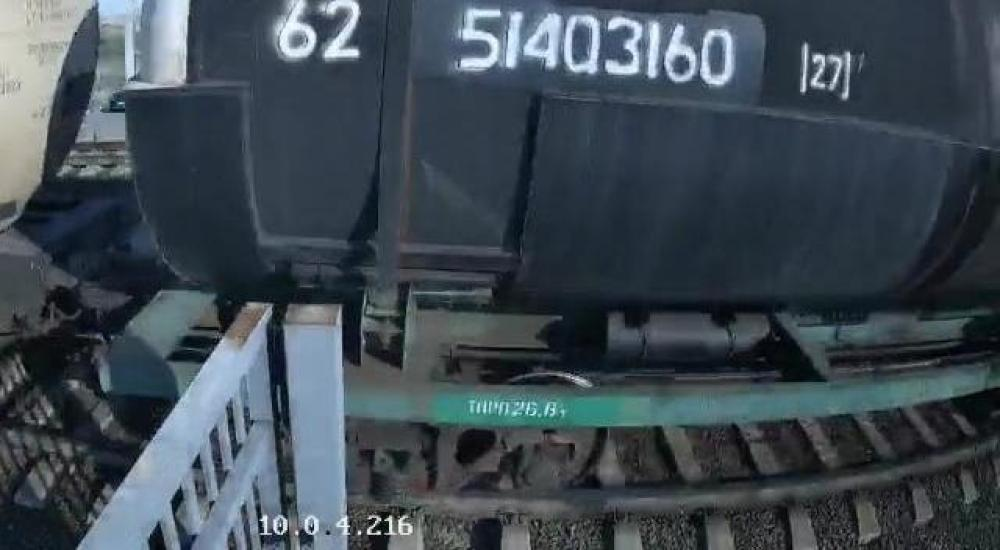Wagon-number: (447, 4, 742, 94)
